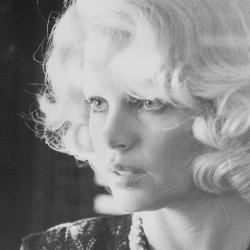face: (32, 5, 250, 216)
